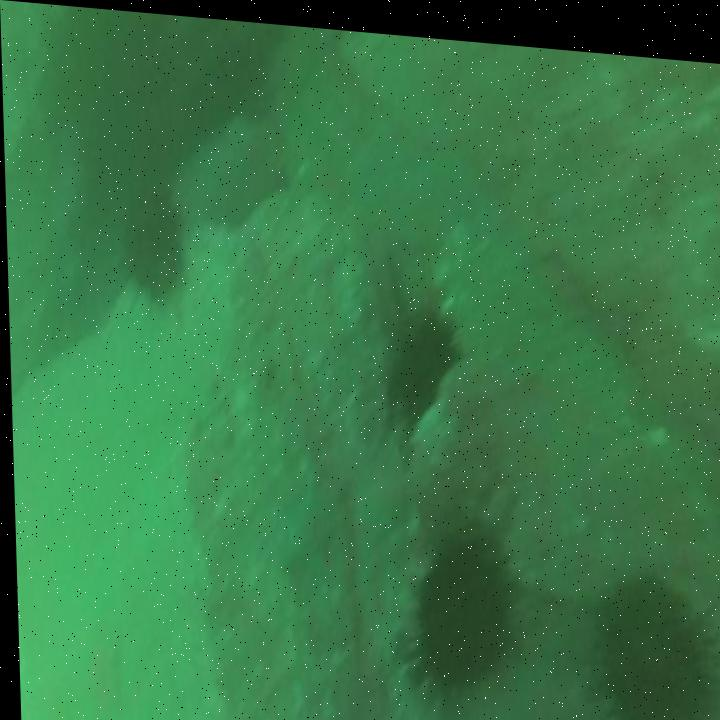echinus: (596, 567, 705, 720), (412, 529, 503, 680), (119, 197, 182, 304), (390, 306, 449, 406)
